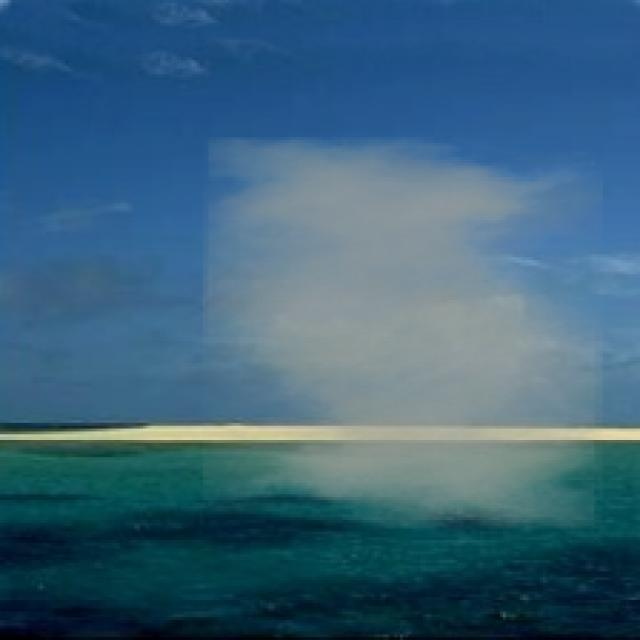Smoke: (203, 137, 603, 529)
